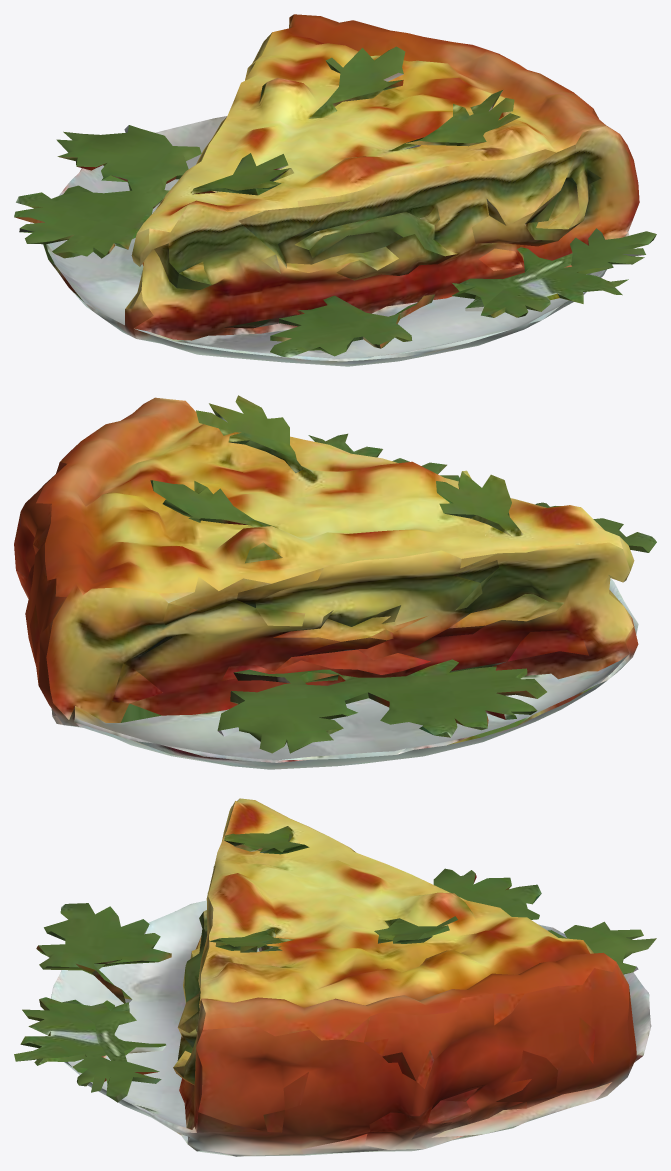
The model's file is kale_frittata.glb.
3 views of the same model, one above another, from view 1: azimuth 30°, elevation 25°; view 2: azimuth 150°, elevation 25°; view 3: azimuth 270°, elevation 25° (orthographic). The views are drawn at different scales.
Parts seen in each view (by area): view 1: kale_frittata; view 2: kale_frittata; view 3: kale_frittata.
Part boxes in pixels (<box>): kale_frittata: <box>14,14,656,366</box>; kale_frittata: <box>14,395,656,769</box>; kale_frittata: <box>14,798,656,1156</box>.
Bounding box in the file's own units: 0.9286 × 0.2922 × 1.
1 material, 1 textured.
